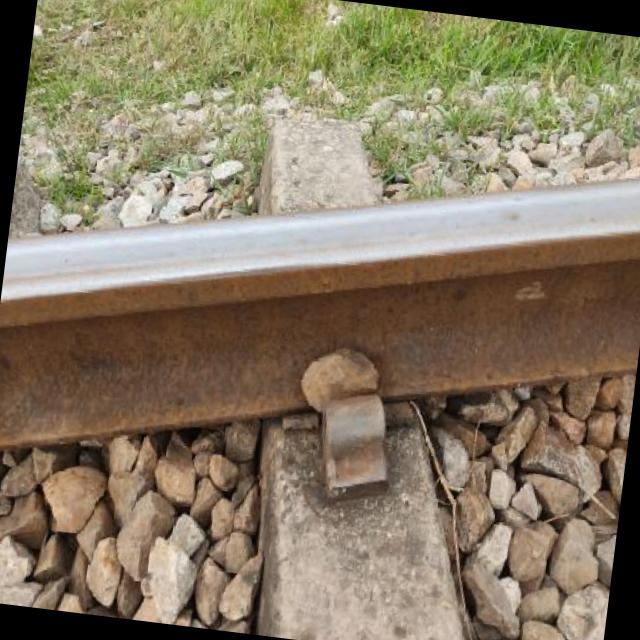non-defective: (0, 31, 640, 525)
